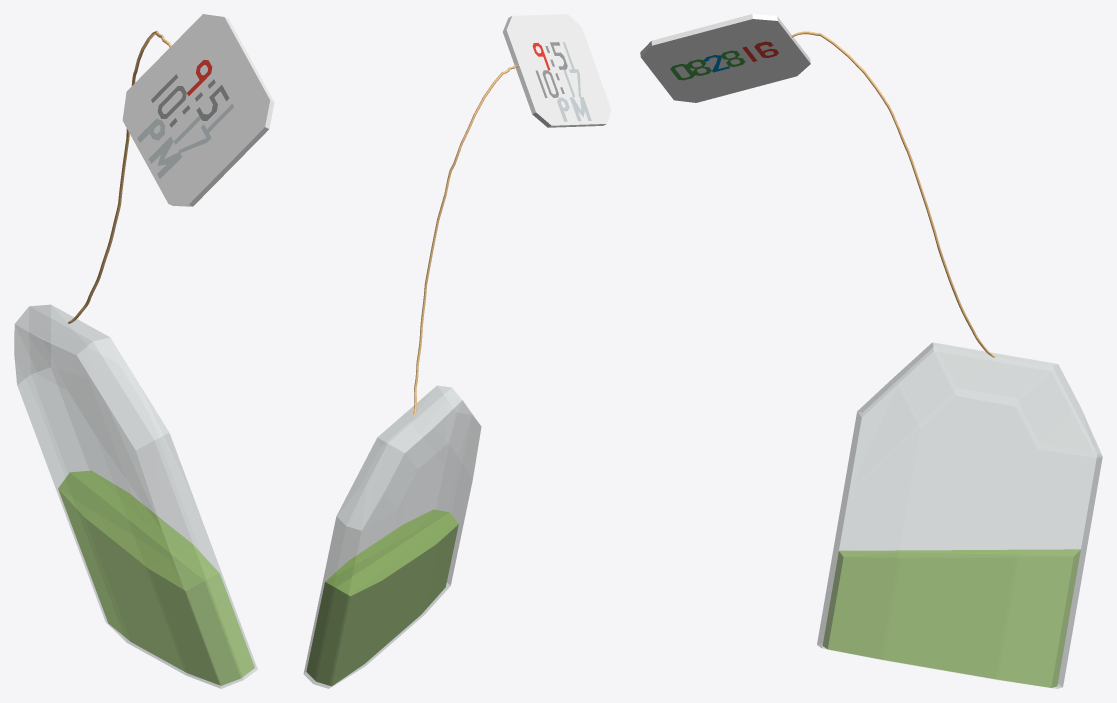
The model's file is bustina.glb.
The picture shows the model from 3 angles, left to right: view 1: azimuth 30°, elevation 25°; view 2: azimuth 150°, elevation 25°; view 3: azimuth 270°, elevation 25°; orthographic projection. The views are drawn at different scales.
Parts seen in each view (by area): view 1: group343465694, group2109747157, group1993174607, group1797679040; view 2: group343465694, group2109747157, group1993174607, group1797679040; view 3: group343465694, group2109747157, group1993174607, group1797679040.
Boxes of the visible parts, x1,y1,x2,y2 form: group343465694: (14,304,257,688); group2109747157: (58,470,254,685); group1993174607: (122,14,274,206); group1797679040: (68,30,171,323); group343465694: (303,385,481,688); group2109747157: (306,509,458,686); group1993174607: (503,14,611,127); group1797679040: (413,65,518,414); group343465694: (817,342,1102,688); group2109747157: (822,549,1080,687); group1993174607: (640,14,810,102); group1797679040: (791,31,995,357).
Size of the model in its own units: 0.6391 by 2.48 by 1.61.
